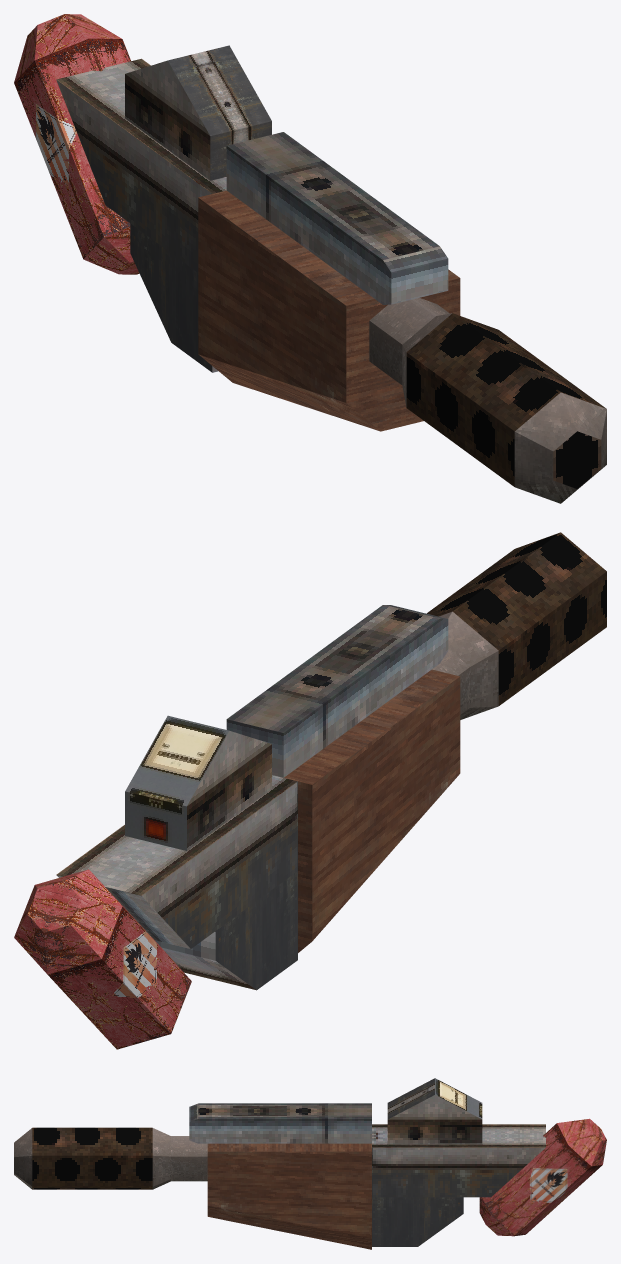
The model's file is HammerGun.gltf.
3 renders of one model, top to bottom at view 1: azimuth 30°, elevation 25°; view 2: azimuth 150°, elevation 25°; view 3: azimuth 270°, elevation 25°, orthographic. The views are drawn at different scales.
Parts seen in each view (by area): view 1: HammerGun; view 2: HammerGun; view 3: HammerGun.
Boxes of the visible parts, x1,y1,x2,y2 form: HammerGun: (14,14,606,503); HammerGun: (14,532,606,1049); HammerGun: (14,1078,606,1249).
Bounding box in the file's own units: 0.8 × 1.9 × 6.48.
Materials: 1 (1 with a texture image).
